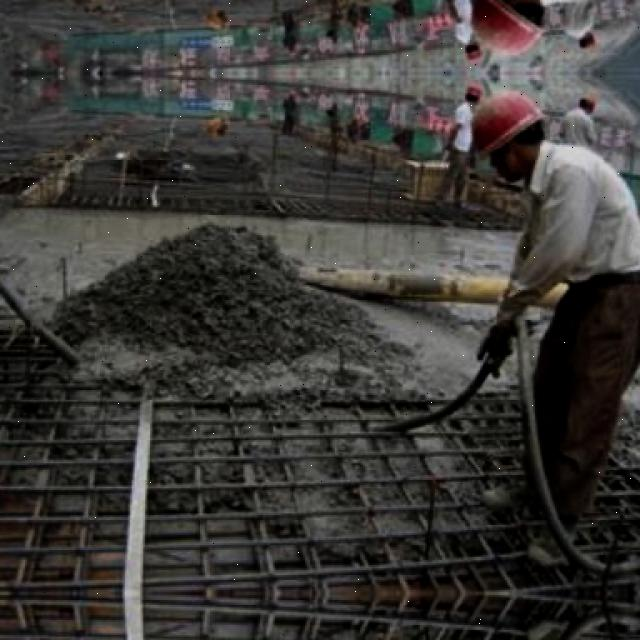Hardhat: (472, 92, 544, 153)
No Overall Suit: (501, 141, 640, 516)
